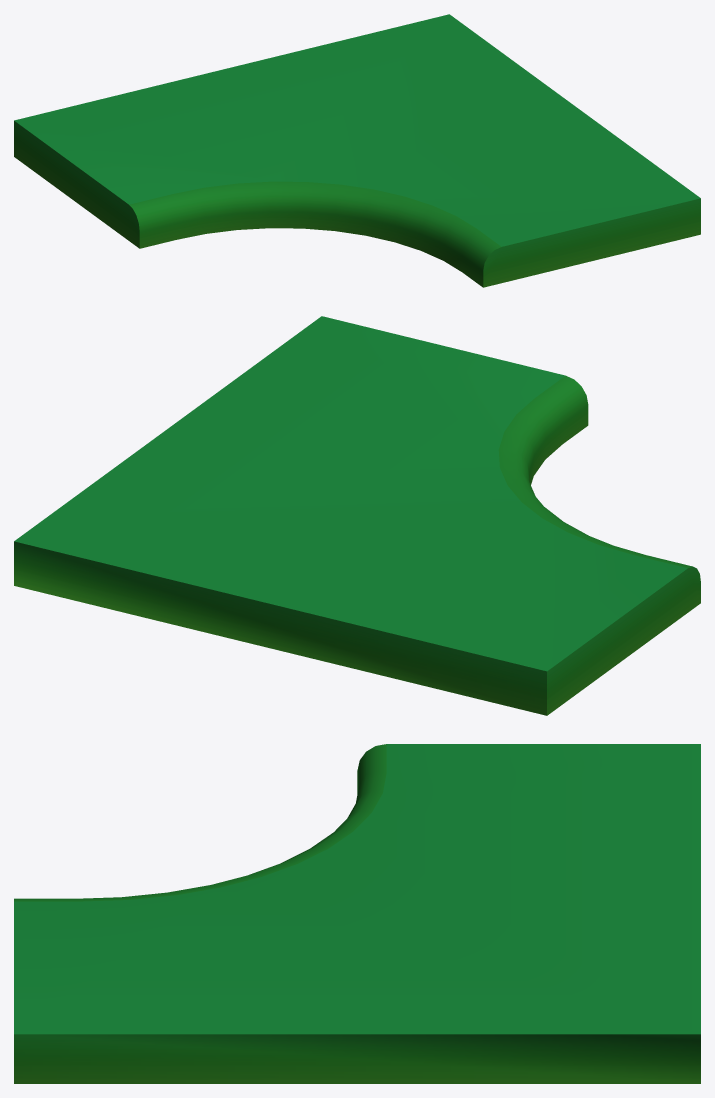
Rendered from GF_ICorner_2_1.glb.
3 renders of one model, top to bottom at view 1: azimuth 30°, elevation 25°; view 2: azimuth 150°, elevation 25°; view 3: azimuth 270°, elevation 25°, orthographic. The views are drawn at different scales.
Parts seen in each view (by area): view 1: GF_ICorner_2_1; view 2: GF_ICorner_2_1; view 3: GF_ICorner_2_1.
Boxes of the visible parts, left/top/right/bottom form: GF_ICorner_2_1: left=14, top=14, right=700, bottom=287; GF_ICorner_2_1: left=14, top=316, right=700, bottom=715; GF_ICorner_2_1: left=14, top=744, right=700, bottom=1083.
Size of the model in its own units: 4 by 0.3187 by 4.
Materials: 1 (1 with a texture image).
